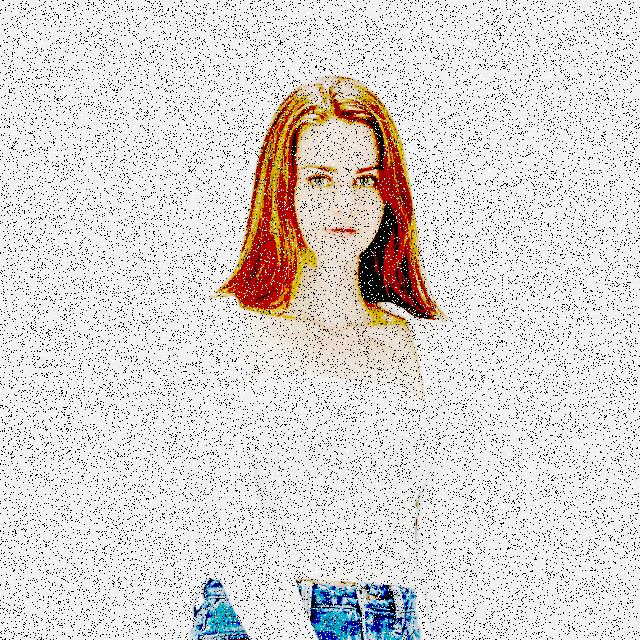dress: (164, 288, 494, 640)
